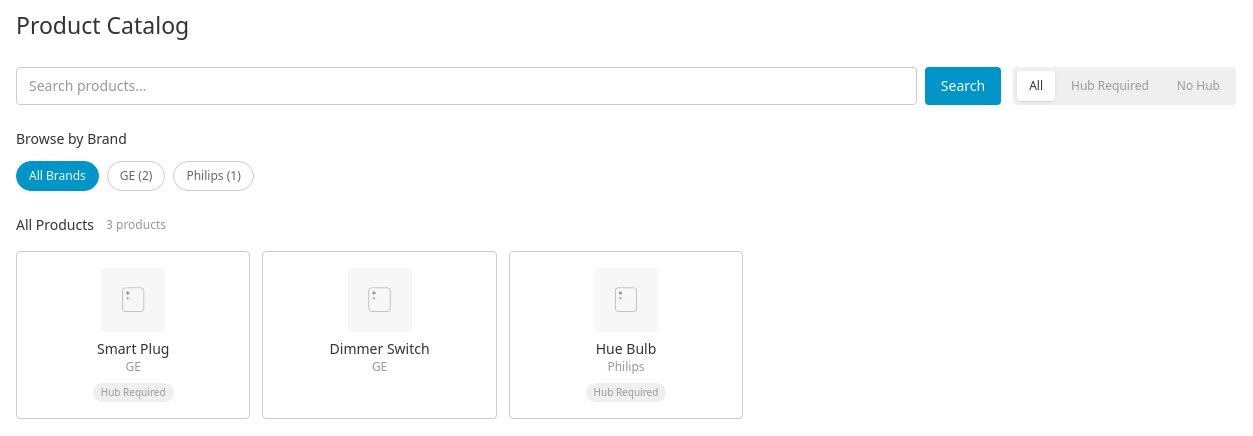
Scenario: ProductCatalogPage – hub requirement filter › shows only no-hub products when No Hub filter is clicked
This screenshot has width=1253, height=436.
Click the button "No Hub".
click(1198, 86)  # box [1165,70,1232,100]
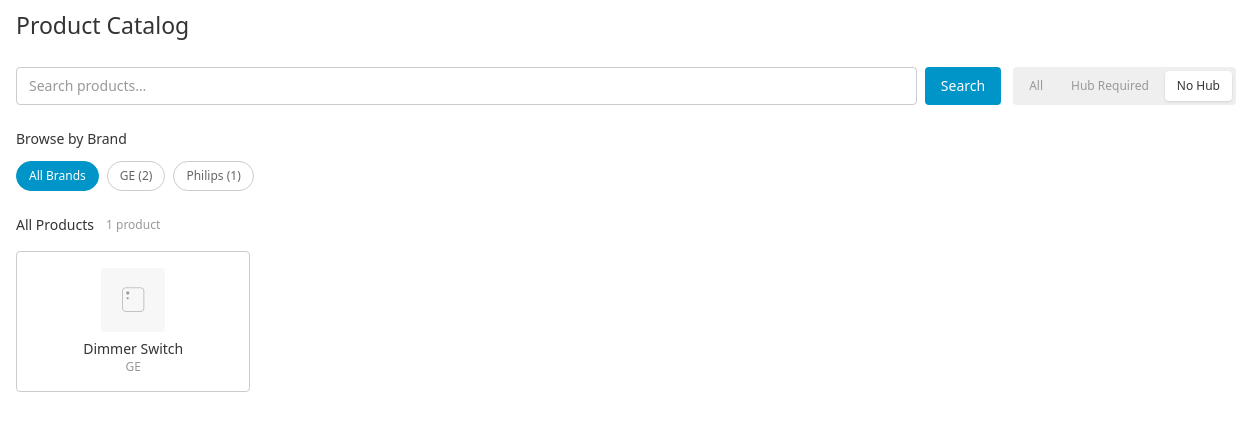
Check: the text "Dimmer Switch" is shown, box [83,340,183,357]
Check: the button "Smart Plug" is gone
Check: the button "Hue Bulb" is gone
